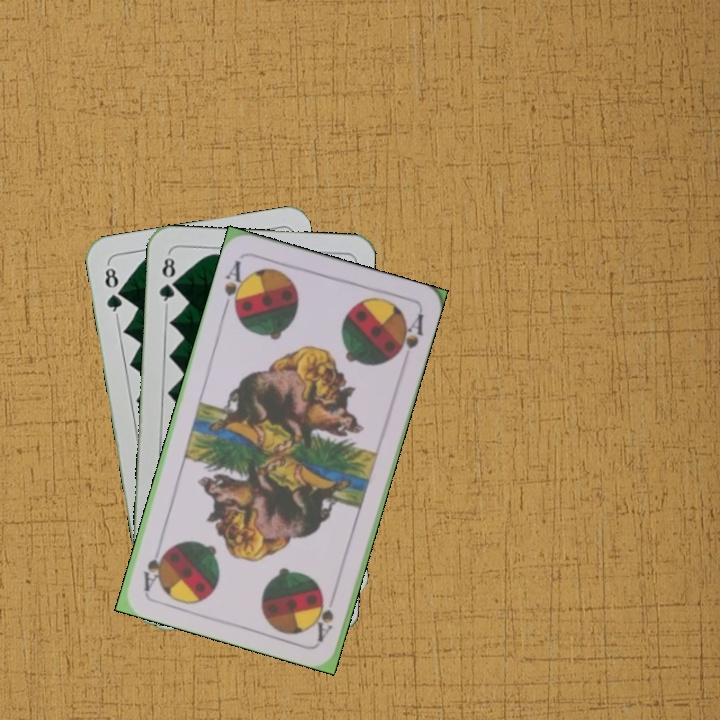G8: (100, 260, 126, 319), (155, 250, 179, 309)
SA: (220, 256, 249, 316), (312, 586, 340, 644)
